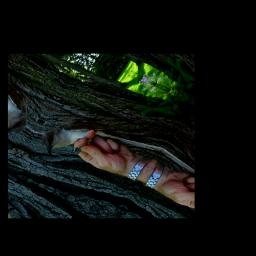Cuckoo: (33, 100, 166, 193)
